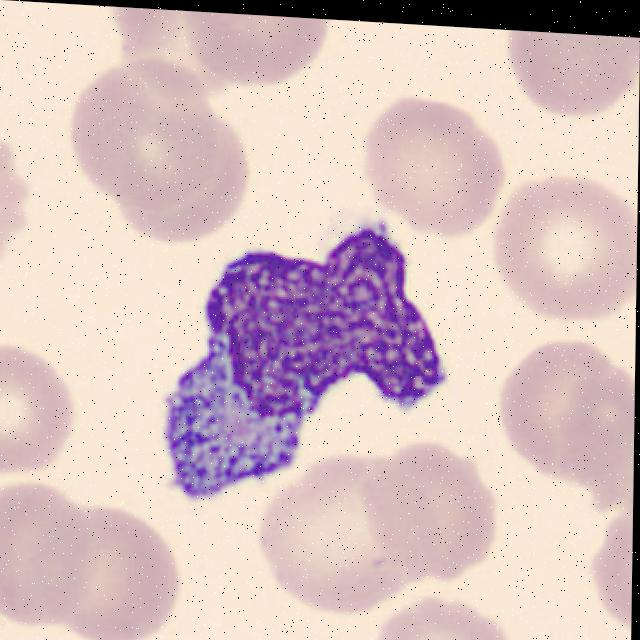monocyte: (129, 190, 447, 523)
rbc: (268, 448, 436, 621), (72, 61, 218, 207), (498, 179, 638, 321), (356, 442, 499, 580), (112, 115, 249, 250), (364, 103, 495, 231), (50, 509, 177, 631), (495, 341, 609, 475), (0, 483, 96, 618), (506, 30, 640, 116), (554, 362, 635, 502), (110, 7, 236, 94), (191, 11, 333, 80), (0, 350, 76, 472), (382, 595, 524, 640), (590, 508, 633, 626), (0, 133, 29, 260)
